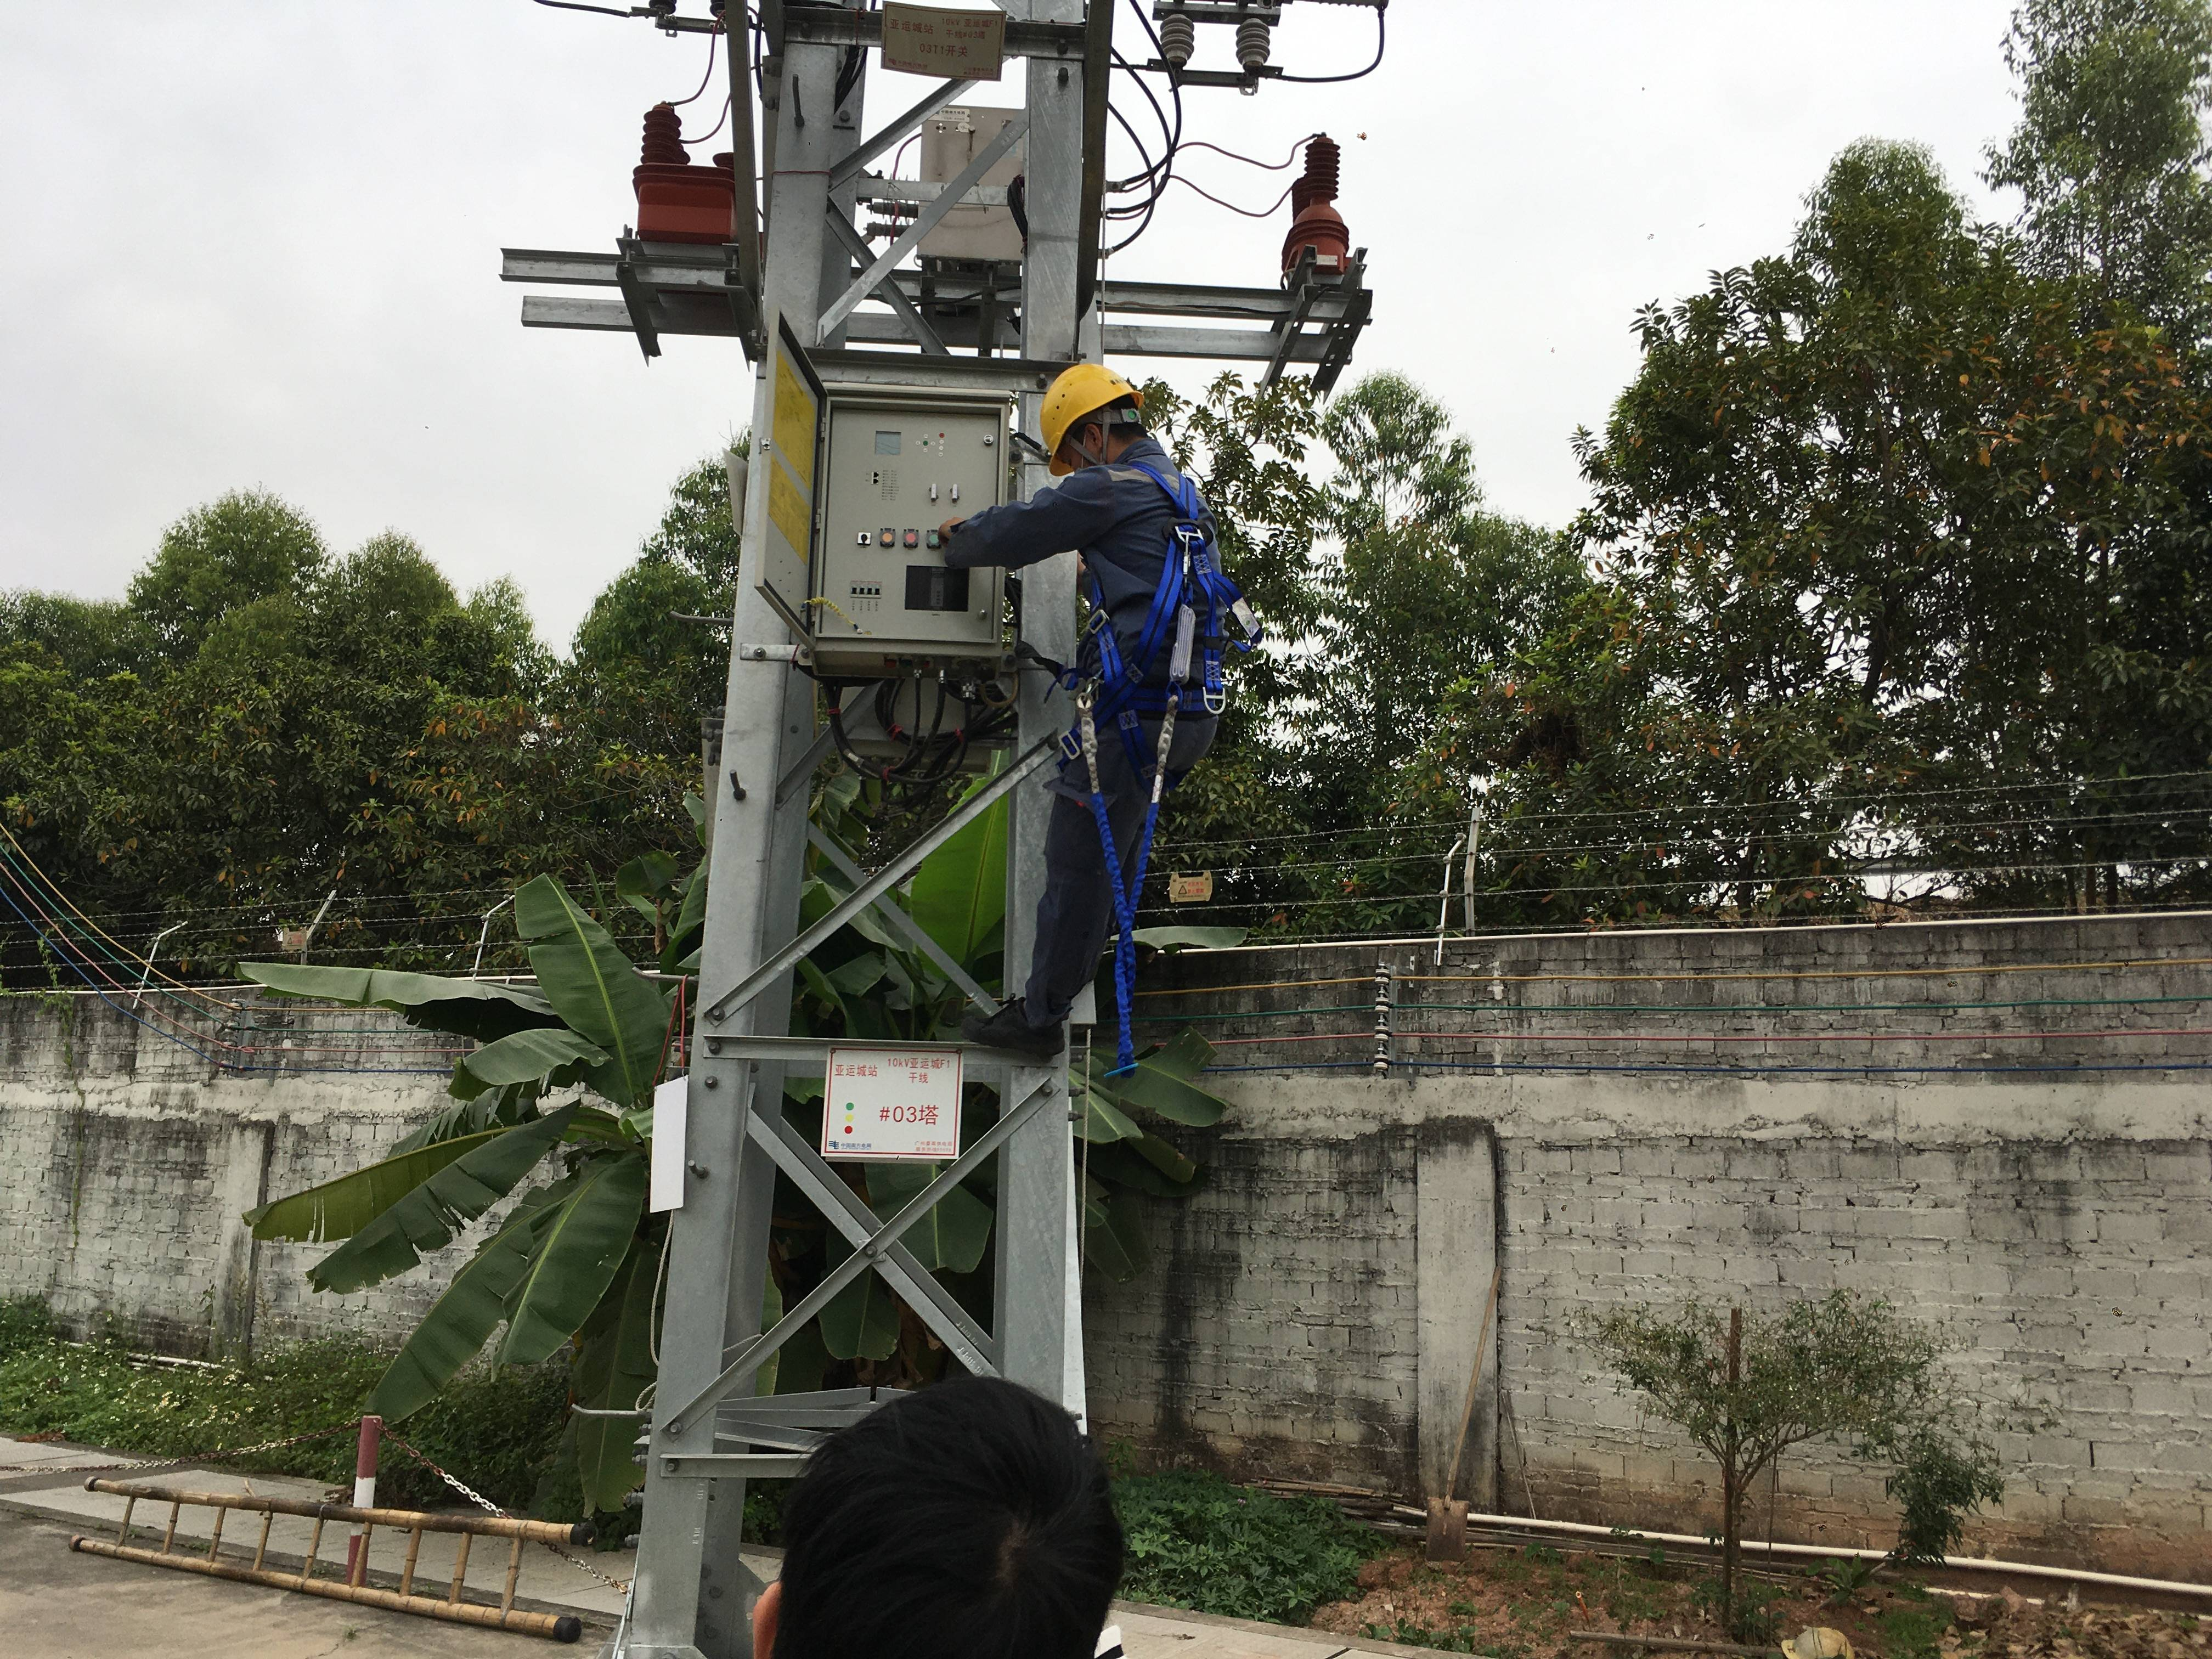downsuit: (1019, 701, 1221, 1019)
upsuit: (946, 443, 1238, 685)
